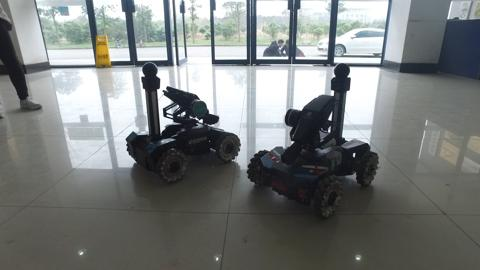chariot: (246, 60, 393, 223), (101, 56, 242, 184)
